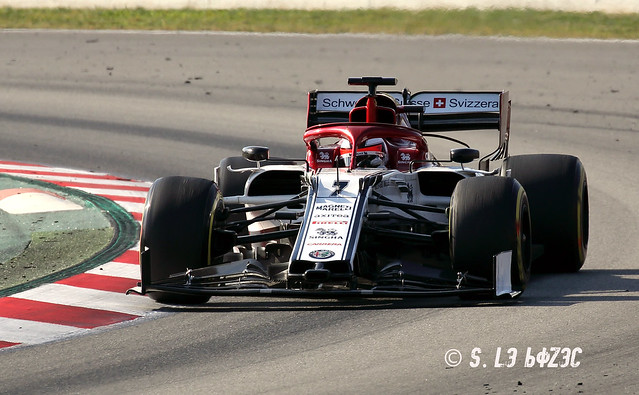F1 Car: (133, 69, 595, 310)
